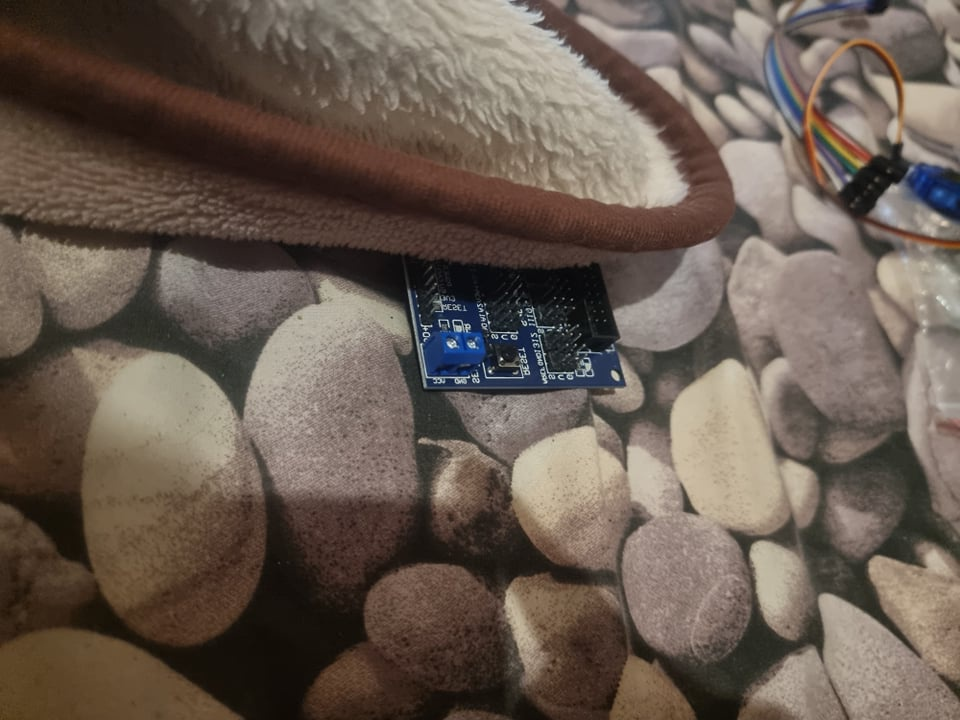5V EXPANSION: (412, 256, 637, 393)
